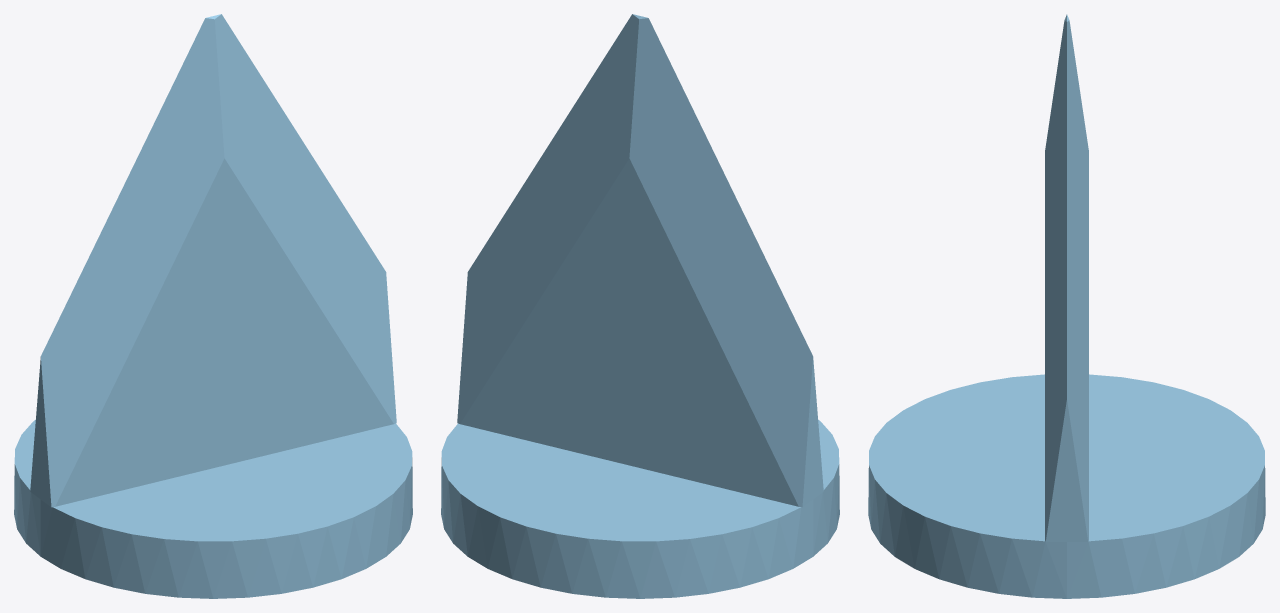
File: DUK8.dae
The picture shows the model from 3 angles, left to right: view 1: azimuth 30°, elevation 25°; view 2: azimuth 150°, elevation 25°; view 3: azimuth 270°, elevation 25°; orthographic projection.
Parts seen in each view (by area): view 1: ID2; view 2: ID2; view 3: ID2.
Part boxes in pixels (left/top/right/bottom): ID2: left=14, top=14, right=412, bottom=598; ID2: left=441, top=14, right=839, bottom=598; ID2: left=868, top=14, right=1265, bottom=598.
Size of the model in its own units: 0.0063 by 0.0063 by 0.0087.
